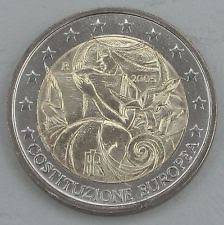eur002: (9, 7, 217, 213)
